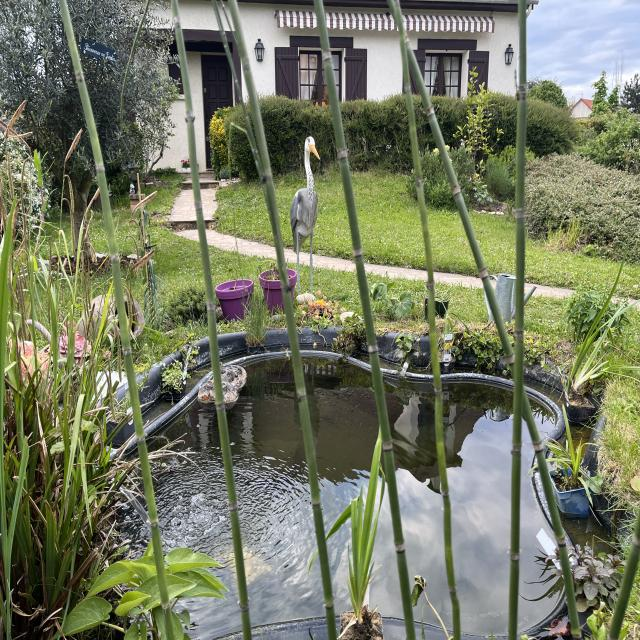Heron: (278, 123, 333, 289)
